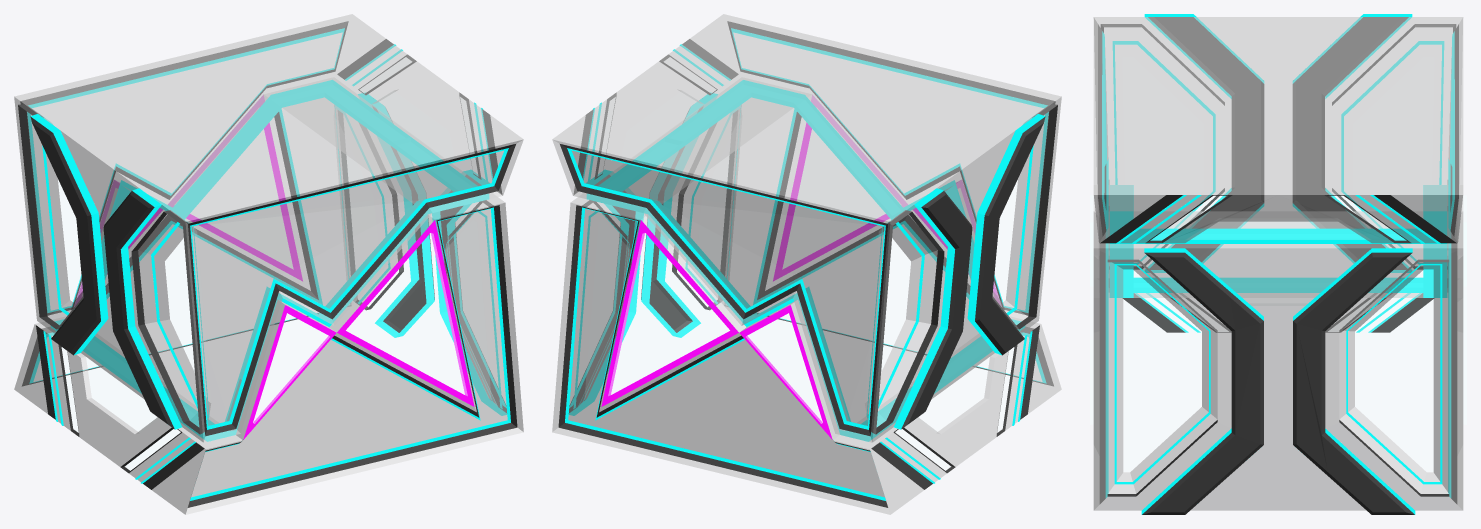
File: Metacity_Giftbox.glb
3 renders of one model, left to right at view 1: azimuth 30°, elevation 25°; view 2: azimuth 150°, elevation 25°; view 3: azimuth 270°, elevation 25°, orthographic. The views are drawn at different scales.
Parts seen in each view (by area): view 1: Cube.004, Cube.005; view 2: Cube.004, Cube.005; view 3: Cube.005, Cube.004.
Boxes of the visible parts, box(x1,y1,x2,y2) form: Cube.004: box(14, 14, 523, 442); Cube.005: box(14, 77, 523, 514); Cube.004: box(552, 14, 1061, 442); Cube.005: box(552, 77, 1061, 514); Cube.005: box(1090, 185, 1466, 514); Cube.004: box(1093, 14, 1463, 297).
Size of the model in its own units: 8.17 by 6.39 by 6.91.
